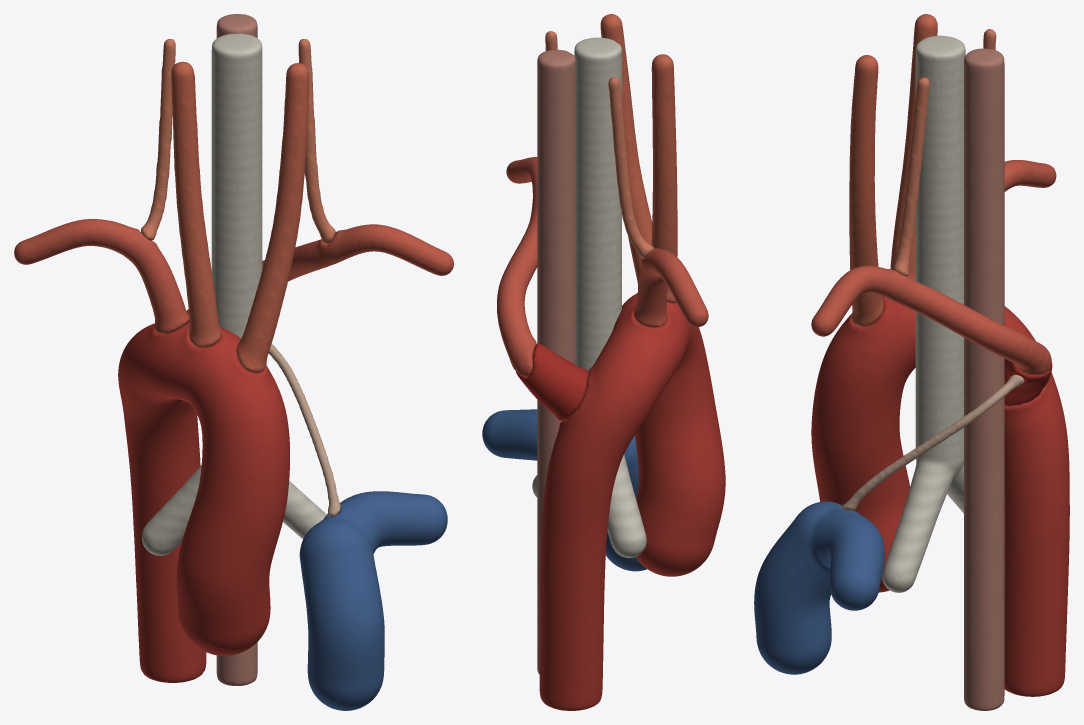
File: aorta_right_alsa.glb
3 views of the same model, side by side, from view 1: azimuth 30°, elevation 25°; view 2: azimuth 150°, elevation 25°; view 3: azimuth 270°, elevation 25° (orthographic). The views are drawn at different scales.
Parts seen in each view (by area): view 1: aorta, trachea, pulmonary_trunk, left_common_carotid, right_common_carotid, right_subclavian, left_subclavian, right_vertebral, oesophagus, left_vertebral, ligamentum_arteriosum; view 2: aorta, trachea, oesophagus, left_subclavian, right_common_carotid, right_subclavian, pulmonary_trunk, kommerell_diverticulum, left_common_carotid, right_vertebral; view 3: aorta, oesophagus, trachea, pulmonary_trunk, left_subclavian, left_common_carotid, left_vertebral, right_common_carotid, ligamentum_arteriosum, right_subclavian, kommerell_diverticulum.
Part boxes in pixels (<box>): aorta: <box>118,320,289,682</box>; trachea: <box>142,33,326,555</box>; pulmonary_trunk: <box>299,491,447,710</box>; left_common_carotid: <box>236,63,309,372</box>; right_common_carotid: <box>171,61,221,347</box>; right_subclavian: <box>14,219,189,334</box>; left_subclavian: <box>262,224,453,281</box>; right_vertebral: <box>141,39,175,240</box>; oesophagus: <box>216,14,257,685</box>; left_vertebral: <box>298,39,335,243</box>; ligamentum_arteriosum: <box>268,344,340,516</box>; aorta: <box>539,293,725,710</box>; trachea: <box>532,37,646,557</box>; oesophagus: <box>537,49,575,674</box>; left_subclavian: <box>497,157,537,376</box>; right_common_carotid: <box>651,54,677,303</box>; right_subclavian: <box>634,248,708,327</box>; pulmonary_trunk: <box>482,409,646,571</box>; kommerell_diverticulum: <box>516,343,588,420</box>; left_common_carotid: <box>600,14,652,288</box>; right_vertebral: <box>608,77,654,257</box>; aorta: <box>811,296,1069,696</box>; oesophagus: <box>964,48,1004,710</box>; trachea: <box>882,35,965,592</box>; pulmonary_trunk: <box>754,501,884,674</box>; left_subclavian: <box>811,265,1051,375</box>; left_common_carotid: <box>849,55,883,326</box>; left_vertebral: <box>892,77,929,276</box>; right_common_carotid: <box>890,14,937,280</box>; ligamentum_arteriosum: <box>841,374,1024,510</box>; right_subclavian: <box>1004,160,1056,191</box>; kommerell_diverticulum: <box>1004,342,1052,406</box>.
Bounding box in the file's own units: 12 × 22.78 × 10.02.
